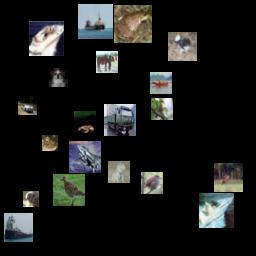airplane: (69, 141, 101, 173)
automobile: (18, 96, 37, 115)
bird: (53, 174, 85, 206), (141, 172, 163, 194), (151, 98, 173, 120)
deer: (214, 163, 243, 192)
dog: (168, 32, 197, 61), (108, 161, 130, 183), (49, 68, 68, 87), (23, 191, 39, 207)
frog: (114, 5, 152, 43), (74, 111, 96, 133), (42, 135, 58, 151)
ship: (29, 21, 64, 56), (78, 4, 113, 39), (199, 193, 234, 228), (4, 213, 33, 242), (150, 72, 172, 94)
truck: (104, 104, 136, 136)
